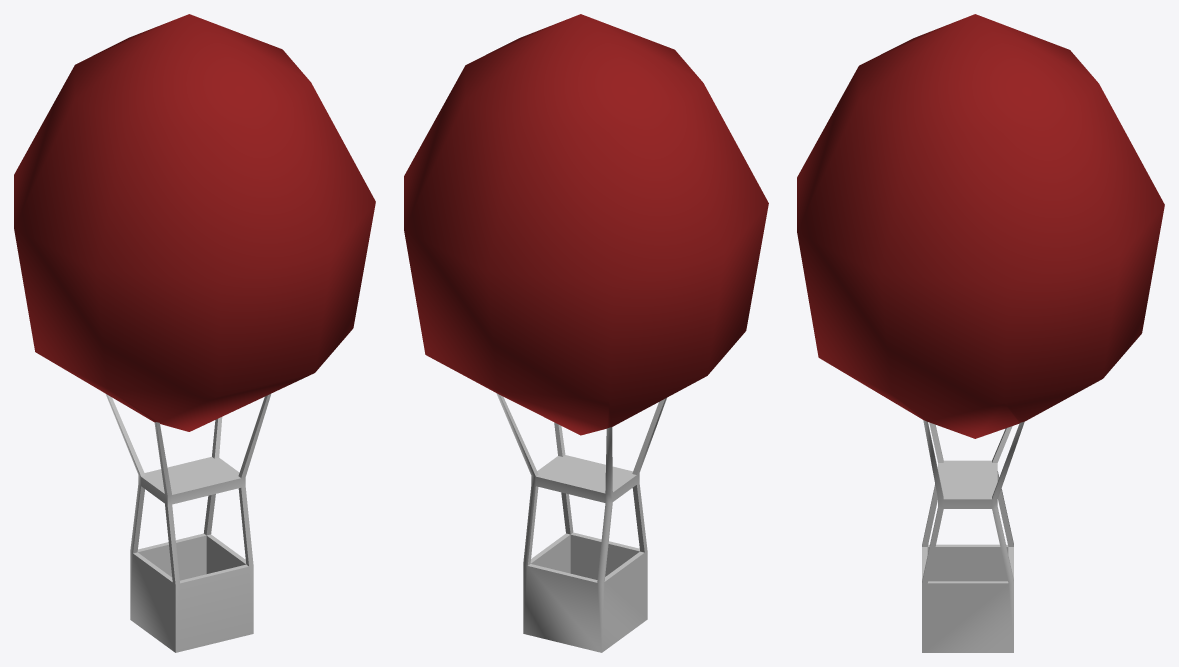
Rendered from Hot_Air_Balloon.fbx.
The picture shows the model from 3 angles, left to right: view 1: azimuth 30°, elevation 25°; view 2: azimuth 150°, elevation 25°; view 3: azimuth 270°, elevation 25°; orthographic projection.
Parts seen in each view (by area): view 1: Hot_Air_Balloon; view 2: Hot_Air_Balloon; view 3: Hot_Air_Balloon.
Part boxes in pixels (x1,y1,x2,y2): Hot_Air_Balloon: [14, 14, 375, 652]; Hot_Air_Balloon: [404, 14, 768, 652]; Hot_Air_Balloon: [797, 14, 1164, 652].
Bounding box in the file's own units: 39.19 × 71.79 × 38.59.
